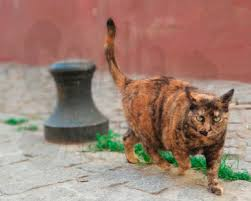cat: (89, 14, 236, 199)
